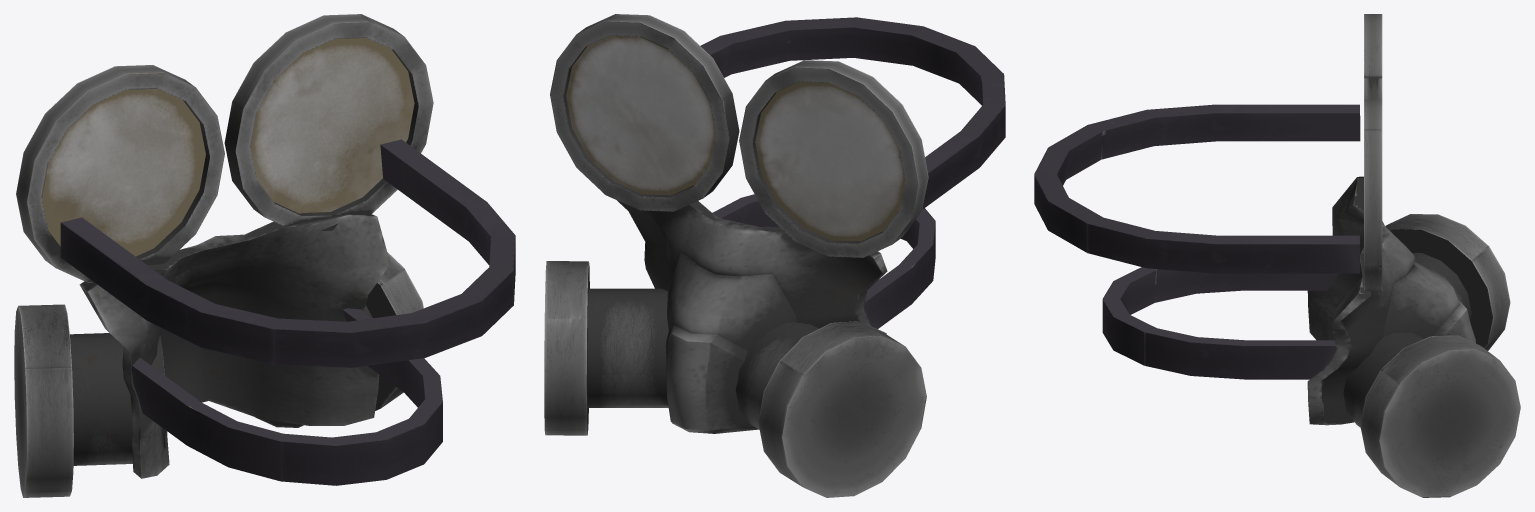
The model's file is Mask_V1.fbx.
3 renders of one model, left to right at view 1: azimuth 30°, elevation 25°; view 2: azimuth 150°, elevation 25°; view 3: azimuth 270°, elevation 25°, orthographic. The views are drawn at different scales.
Parts seen in each view (by area): view 1: Mask; view 2: Mask; view 3: Mask.
Part boxes in pixels (box(x1,y1,x2,y2)): Mask: box(14, 14, 515, 497); Mask: box(544, 14, 1005, 497); Mask: box(1034, 14, 1520, 497).
Size of the model in its own units: 92.89 by 113 by 93.3.
Materials: 1 (1 with a texture image).
